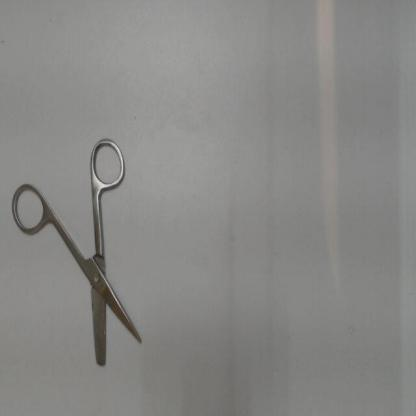Dressing Scissors: (5, 131, 148, 373)
